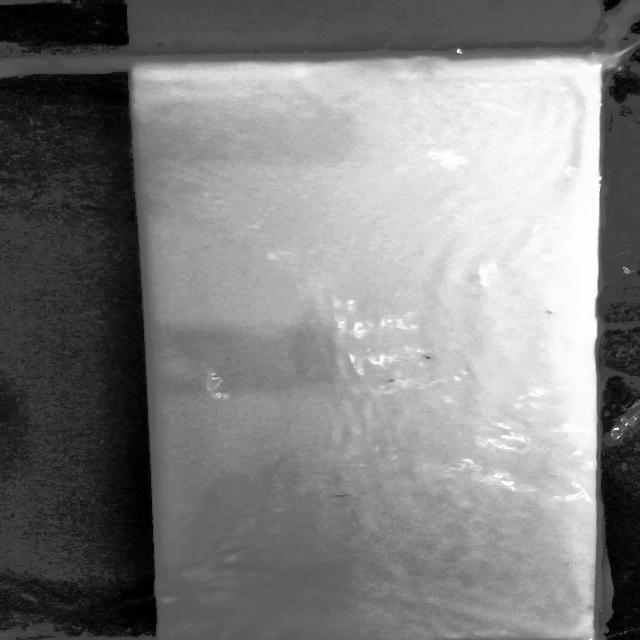shrimp: (415, 350, 440, 364), (329, 490, 357, 501), (381, 374, 406, 384), (543, 308, 559, 318)
